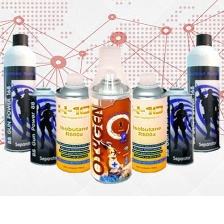aerosol_cans: (86, 67, 135, 188), (127, 71, 170, 178), (52, 70, 92, 177), (156, 85, 198, 170), (26, 79, 61, 167)
bottle: (182, 29, 222, 153), (2, 31, 37, 153)
